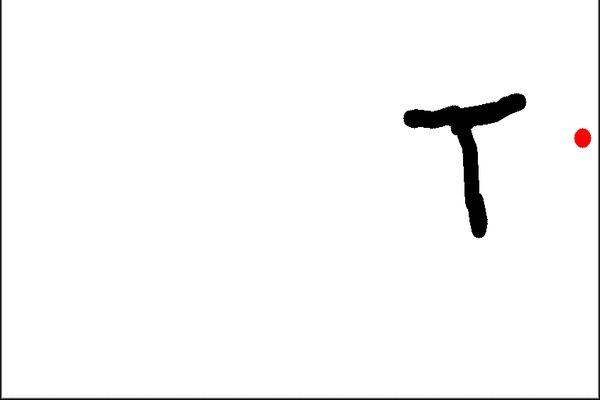T: (399, 96, 527, 240)
